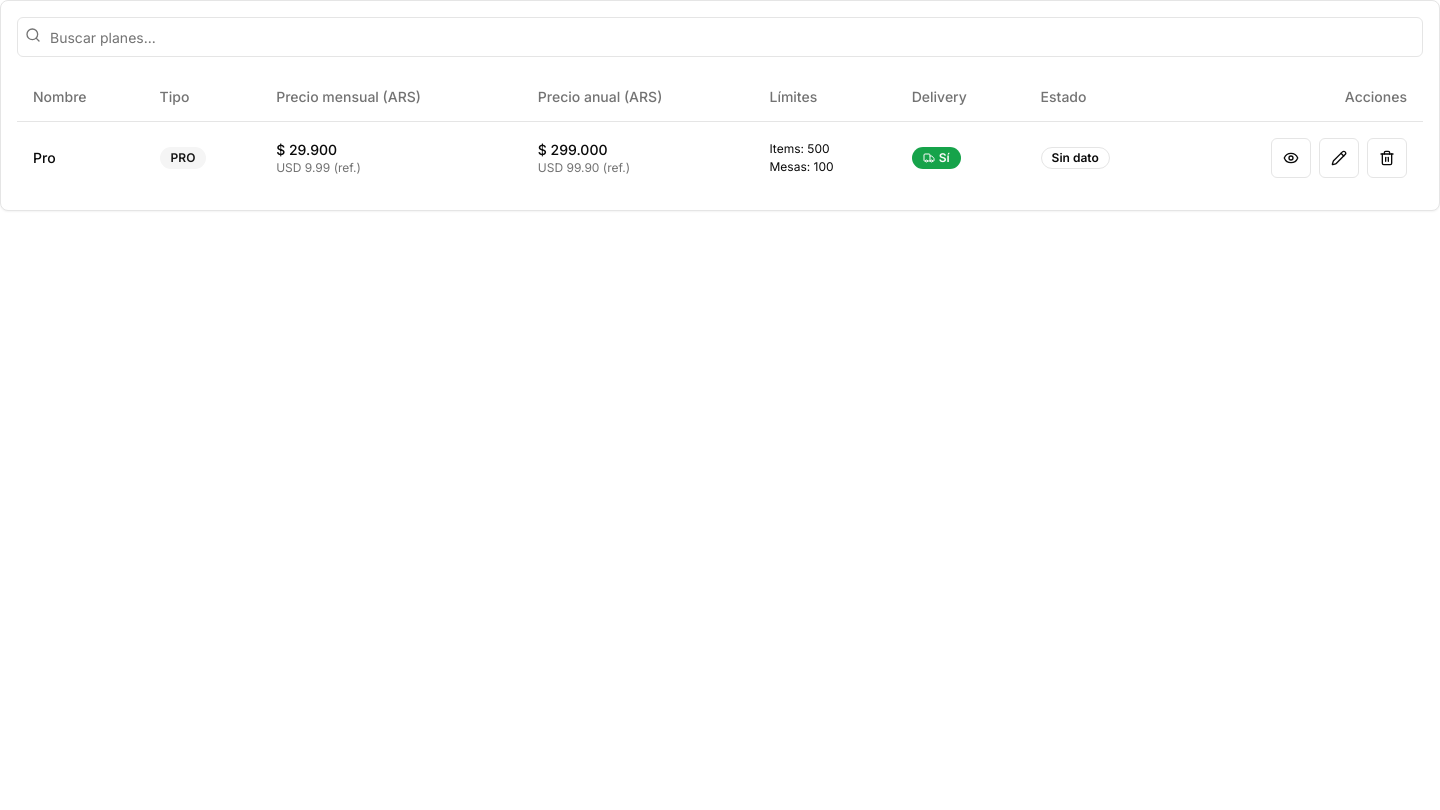
Test: PlansTable: detalle del plan › muestra "Sin dato" si el plan no trae `active`
The image size is (1440, 810).
Step 1. Click the 1st button → (1291, 158), box [1271,138,1311,178]
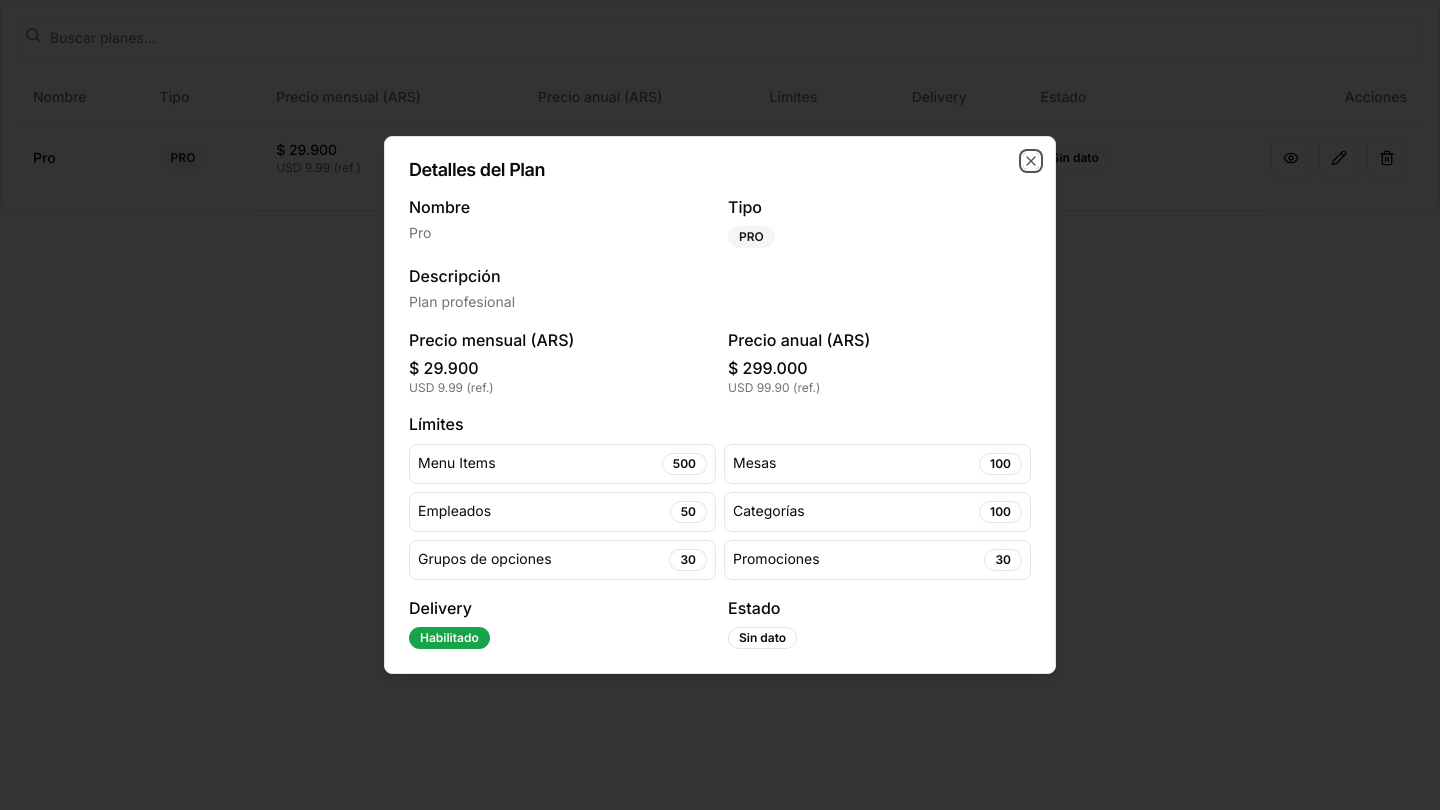
Check: the text "Sin dato" is shown, box [728,627,797,649]
